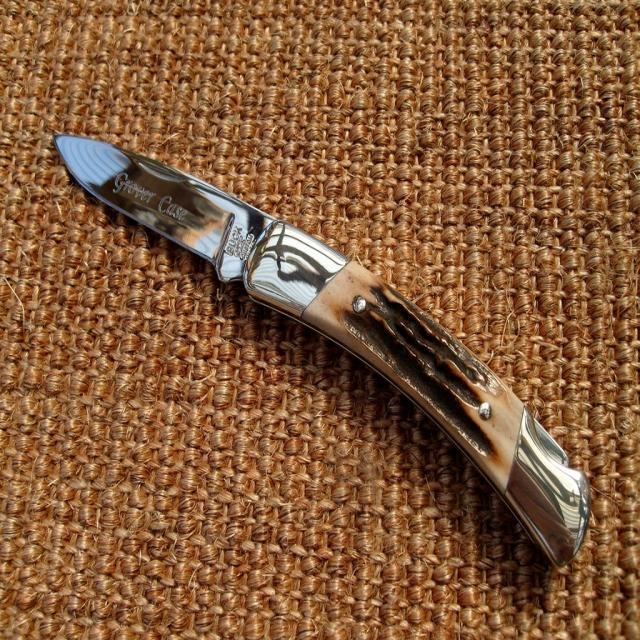Knife: (55, 135, 590, 564), (342, 290, 348, 295)
